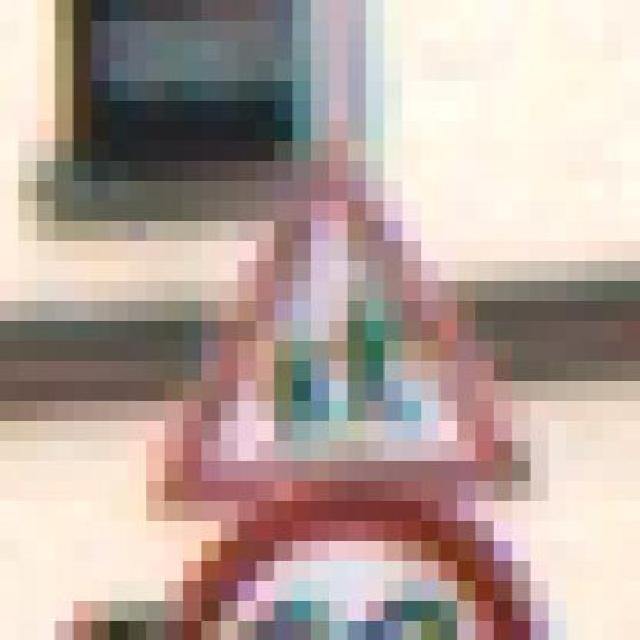Beware of children: (146, 120, 549, 520)
